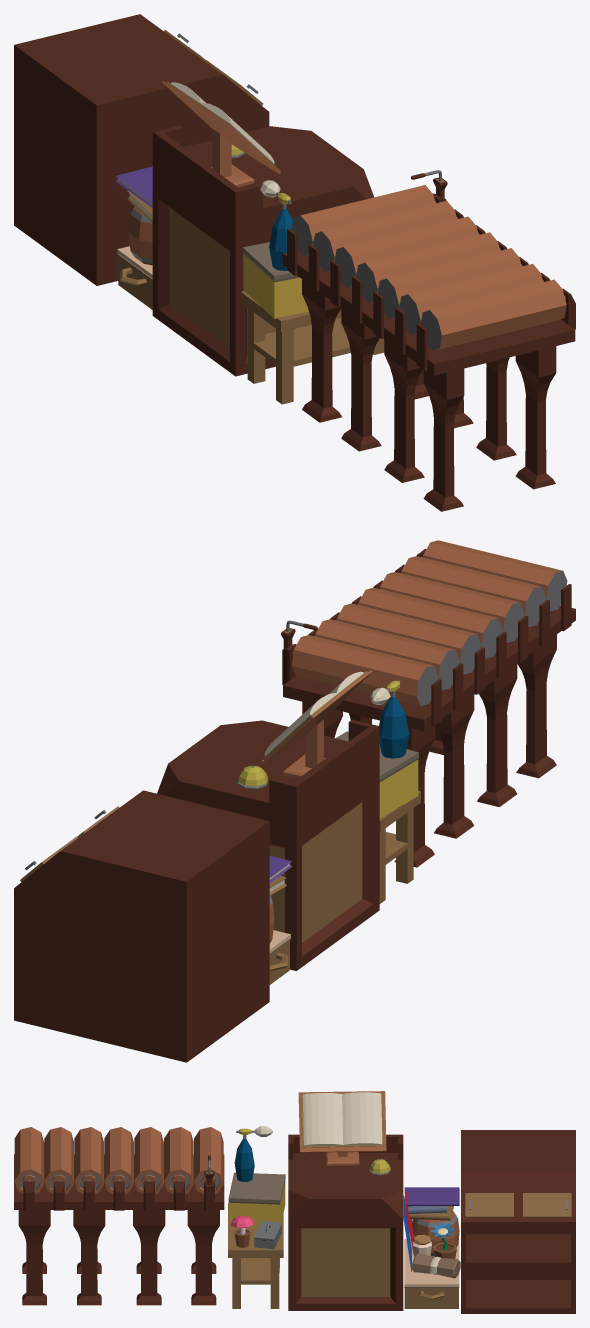
Rendered from levelnolightsfix.fbx.
The picture shows the model from 3 angles, top to bottom: view 1: azimuth 30°, elevation 25°; view 2: azimuth 150°, elevation 25°; view 3: azimuth 270°, elevation 25°; orthographic projection. The views are drawn at different scales.
Parts seen in each view (by area): view 1: Cube.005, Mesa do meio, Cube.004, Cube.070, Cylinder.014, Cube.024, Cylinder.018, Cylinder.015, Cylinder.019, Cylinder.020, Cylinder.017, Cylinder.016 (+7 smaller); view 2: Cube.005, Mesa do meio, Cube.004, Cube.070, Cylinder.020, Cylinder.017, Cylinder.018, Cylinder.019, Cylinder.015, Cylinder.016, Cylinder.014, Cube.024 (+5 smaller); view 3: Cube.005, Mesa do meio, Cube.004, Cube.070, book, Cube.024, Cube.001, Torus.001, Cylinder.014, Cylinder.015, Cylinder.016, Cylinder.017 (+14 smaller).
Boxes of the visible parts, x1,y1,x2,y2 form: Cube.005: (14,14,269,285); Mesa do meio: (152,125,373,376); Cube.004: (302,279,556,511); Cube.070: (282,177,575,375); Cylinder.014: (421,279,566,350); Cube.024: (241,291,384,404); Cylinder.018: (334,216,479,287); Cylinder.015: (399,264,543,334); Cylinder.019: (313,200,457,271); Cylinder.020: (291,185,436,255); Cylinder.017: (356,232,500,303); Cylinder.016: (377,248,522,318); Cube.005: (14,790,269,1062); Mesa do meio: (157,719,379,970); Cube.004: (302,634,556,867); Cube.070: (281,549,575,731); Cylinder.020: (291,635,437,705); Cylinder.017: (358,587,502,658); Cylinder.018: (336,603,480,674); Cylinder.019: (315,619,459,690); Cylinder.015: (401,556,545,627); Cylinder.016: (379,572,524,642); Cylinder.014: (422,540,567,611); Cube.024: (379,791,420,903); Cube.005: (461,1130,575,1313); Mesa do meio: (288,1134,403,1310); Cube.004: (18,1210,219,1305); Cube.070: (14,1154,224,1210); book: (300,1092,384,1147); Cube.024: (228,1203,283,1308); Cube.001: (228,1172,285,1228); Torus.001: (404,1239,459,1308); Cylinder.014: (14,1127,44,1194); Cylinder.015: (44,1127,73,1194); Cylinder.016: (74,1127,103,1193); Cylinder.017: (104,1127,133,1193).
Size of the model in its own units: 120 by 165 by 488.
